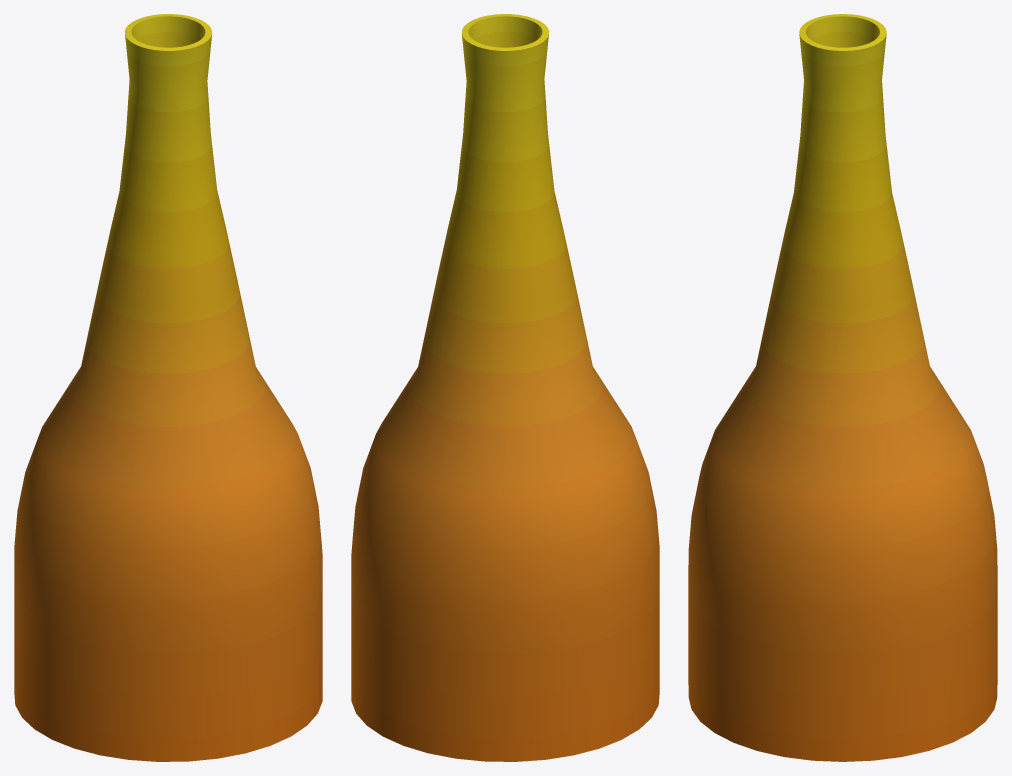
File: vase4.fbx
3 views of the same model, side by side, from view 1: azimuth 30°, elevation 25°; view 2: azimuth 150°, elevation 25°; view 3: azimuth 270°, elevation 25° (orthographic).
Parts seen in each view (by area): view 1: vase4; view 2: vase4; view 3: vase4.
Part boxes in pixels (x1=…): vase4: x1=14, y1=14, x2=322, y2=761; vase4: x1=351, y1=14, x2=659, y2=761; vase4: x1=688, y1=14, x2=997, y2=761.
Bounding box in the file's own units: 18.92 × 44.87 × 18.92.
